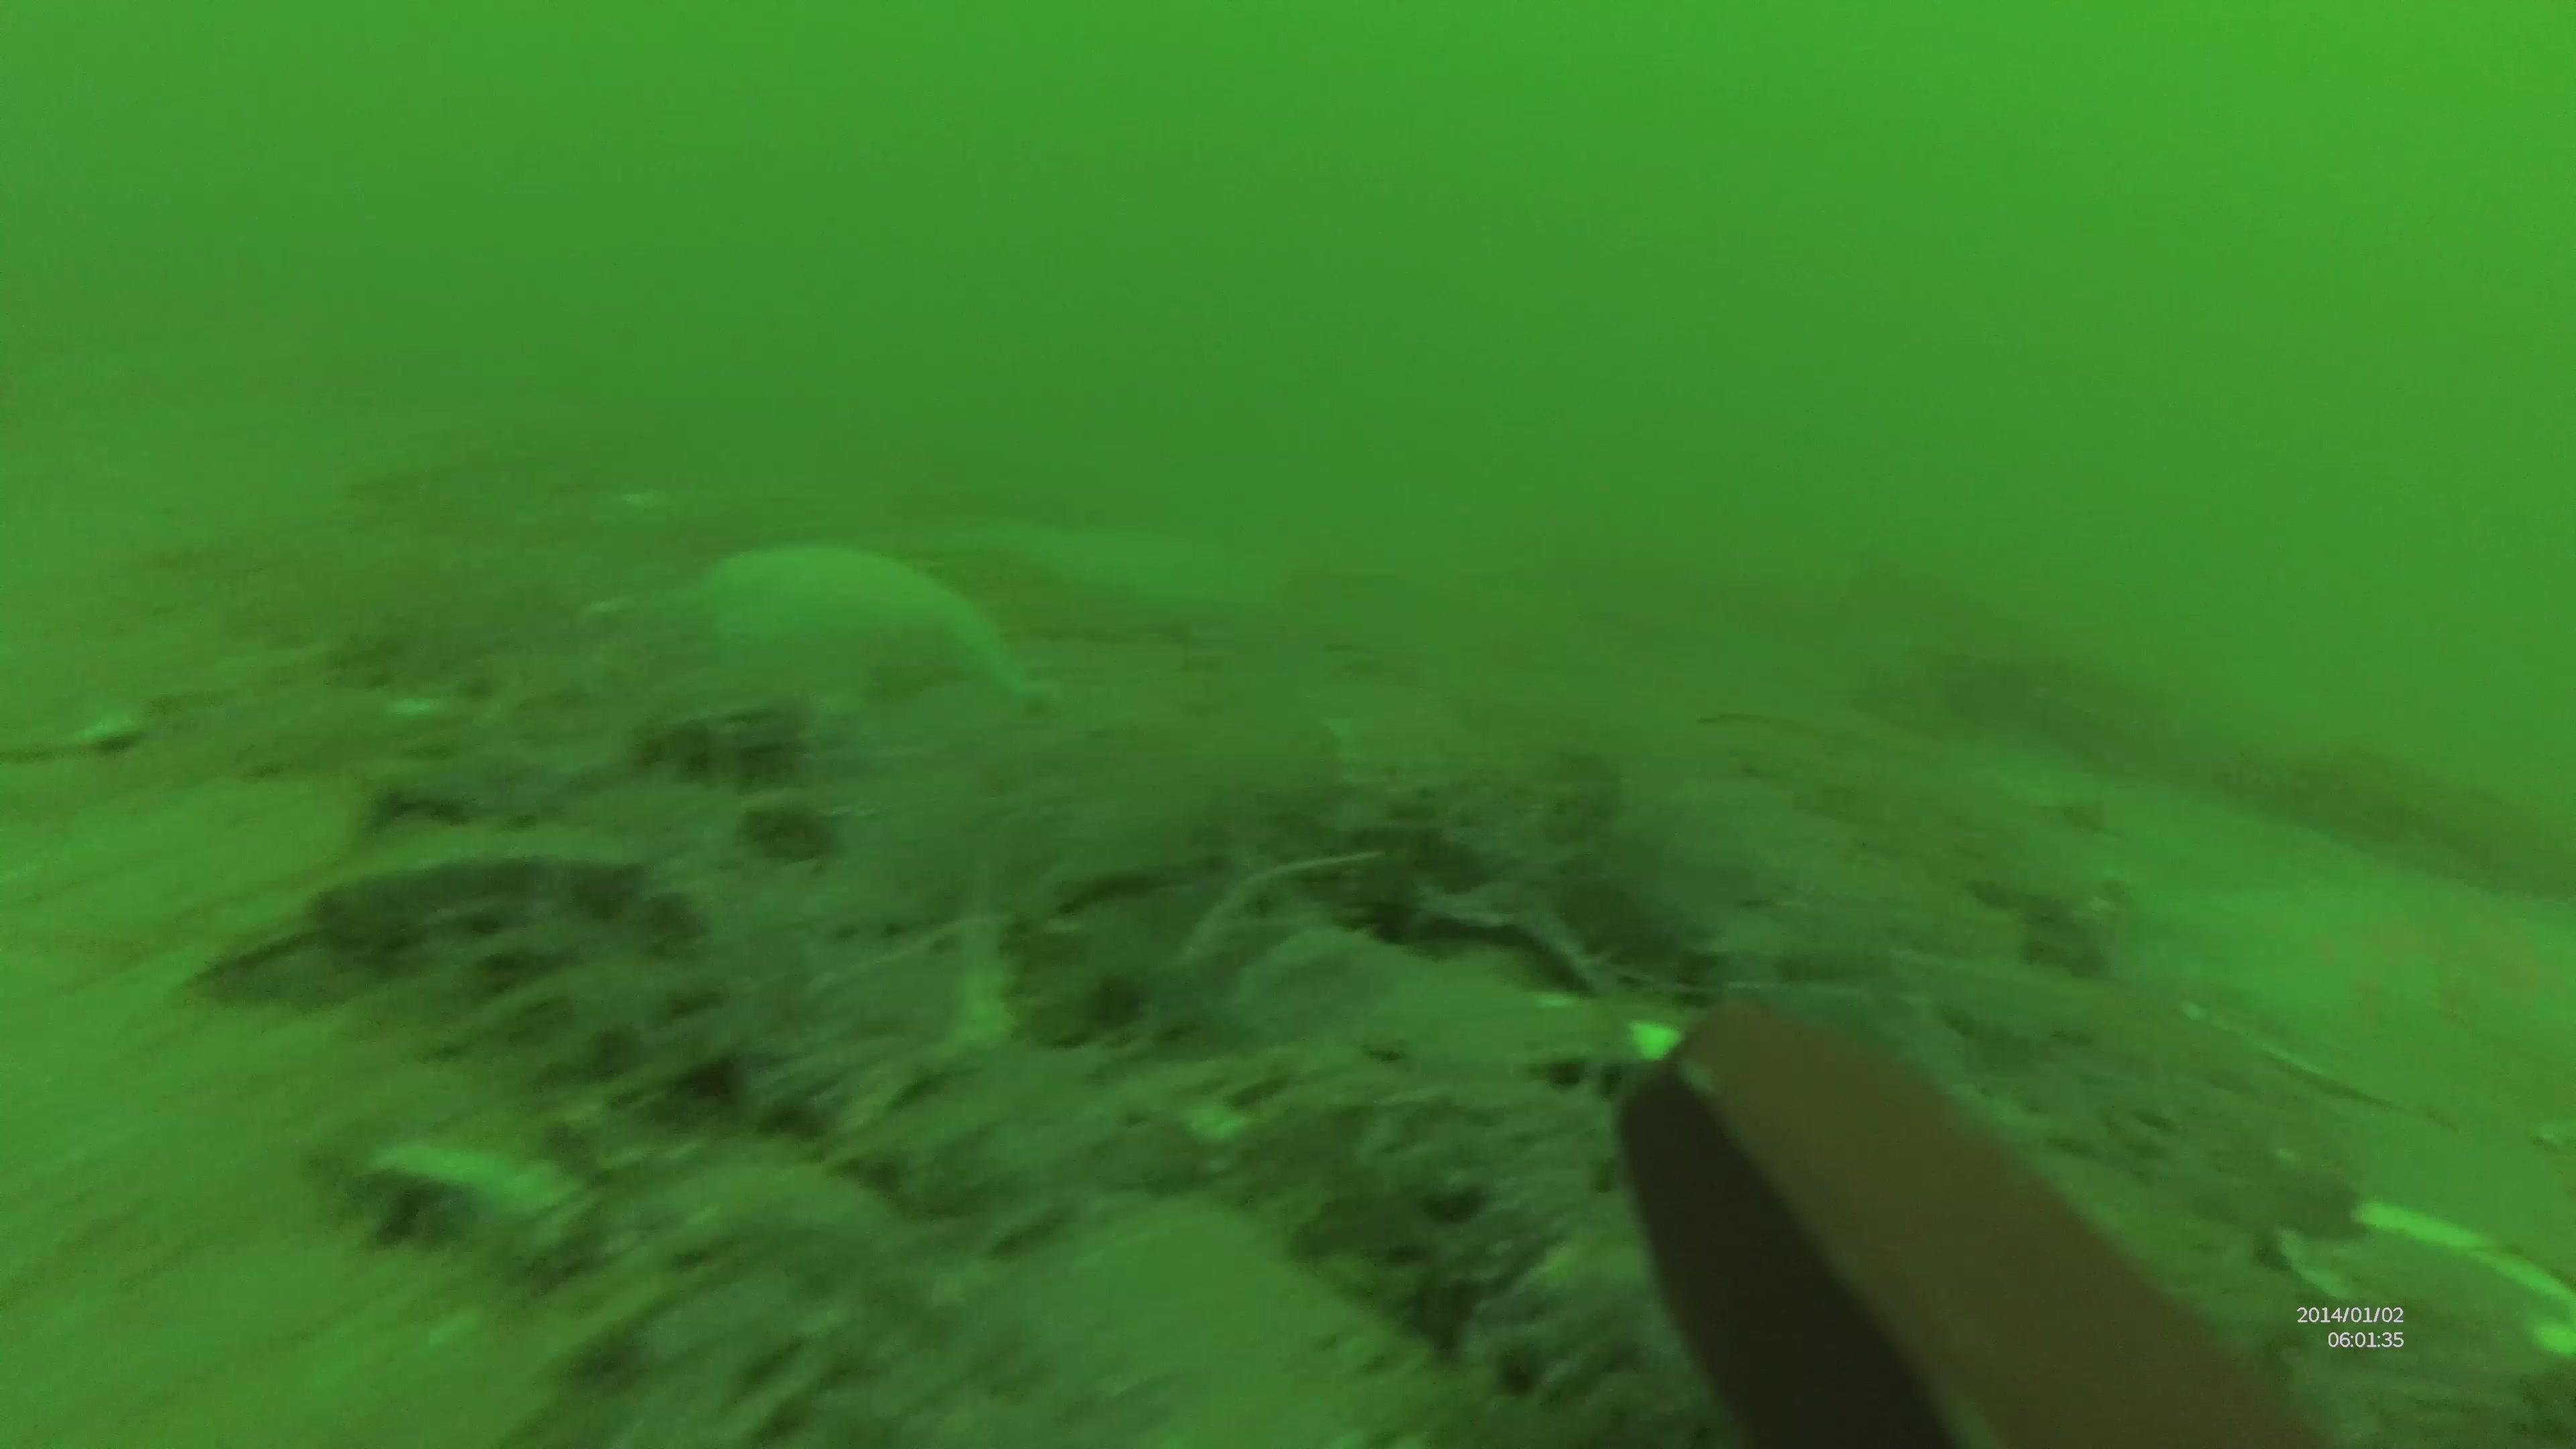starfish: (697, 547, 1039, 738)
